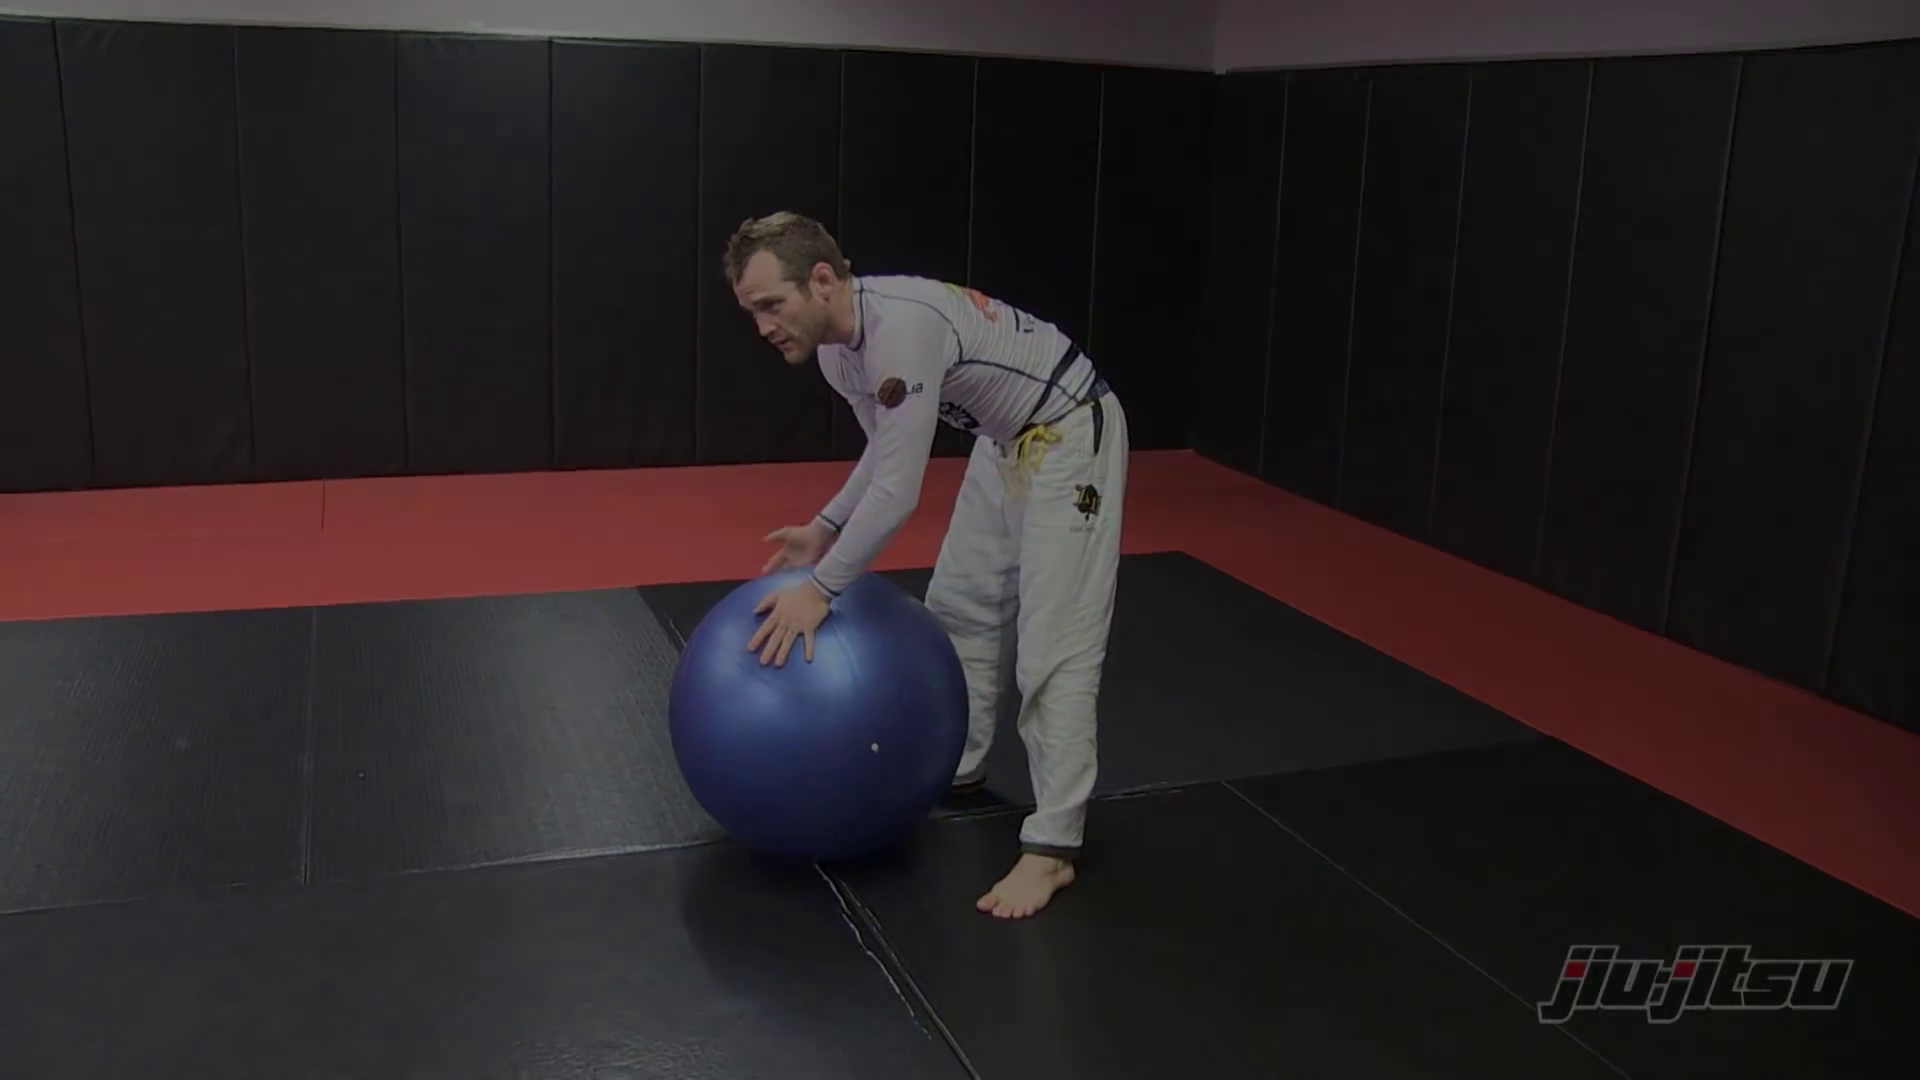yogaball: (657, 564, 996, 862)
